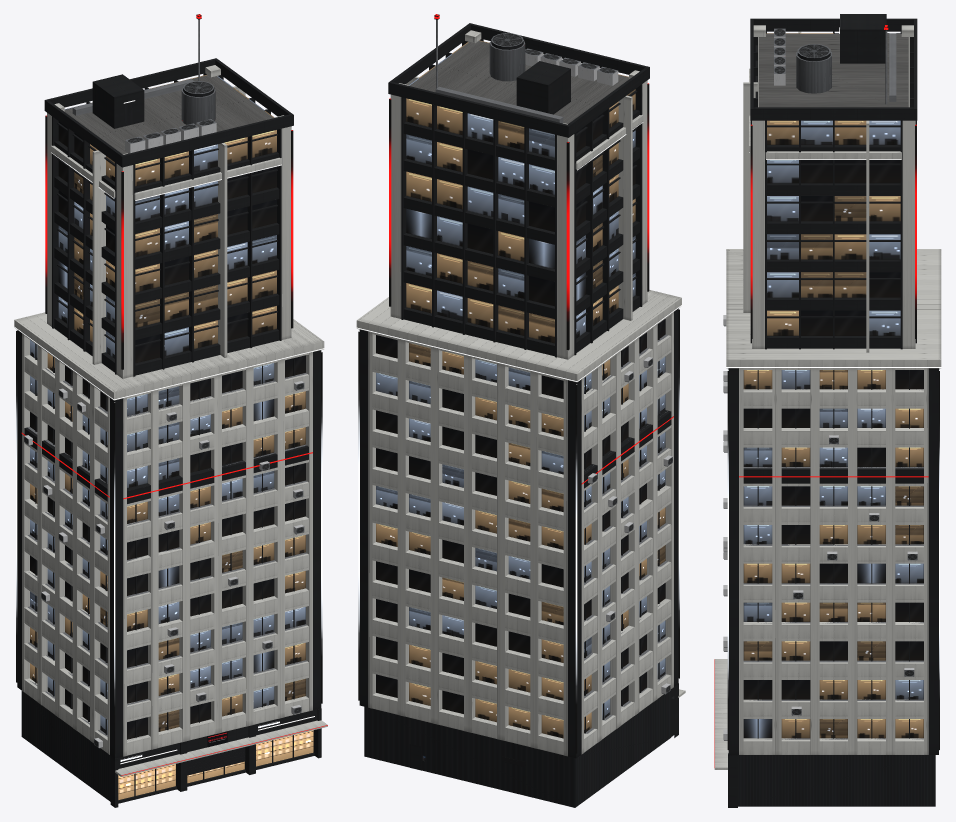
Rendered from SM_INFD_BlockA_1.fbx.
3 views of the same model, side by side, from view 1: azimuth 30°, elevation 25°; view 2: azimuth 150°, elevation 25°; view 3: azimuth 270°, elevation 25° (orthographic). The views are drawn at different scales.
Visible parts, largest first — view 1: SM_INFD_BlockA_1_LOD0; view 2: SM_INFD_BlockA_1_LOD0; view 3: SM_INFD_BlockA_1_LOD0.
Boxes of the visible parts, left/top/right/bottom form: SM_INFD_BlockA_1_LOD0: left=14, top=14, right=327, bottom=807; SM_INFD_BlockA_1_LOD0: left=356, top=14, right=685, bottom=807; SM_INFD_BlockA_1_LOD0: left=714, top=14, right=941, bottom=807.
Size of what is drawn, in the model's own units: 22.9 by 71.35 by 19.44.
